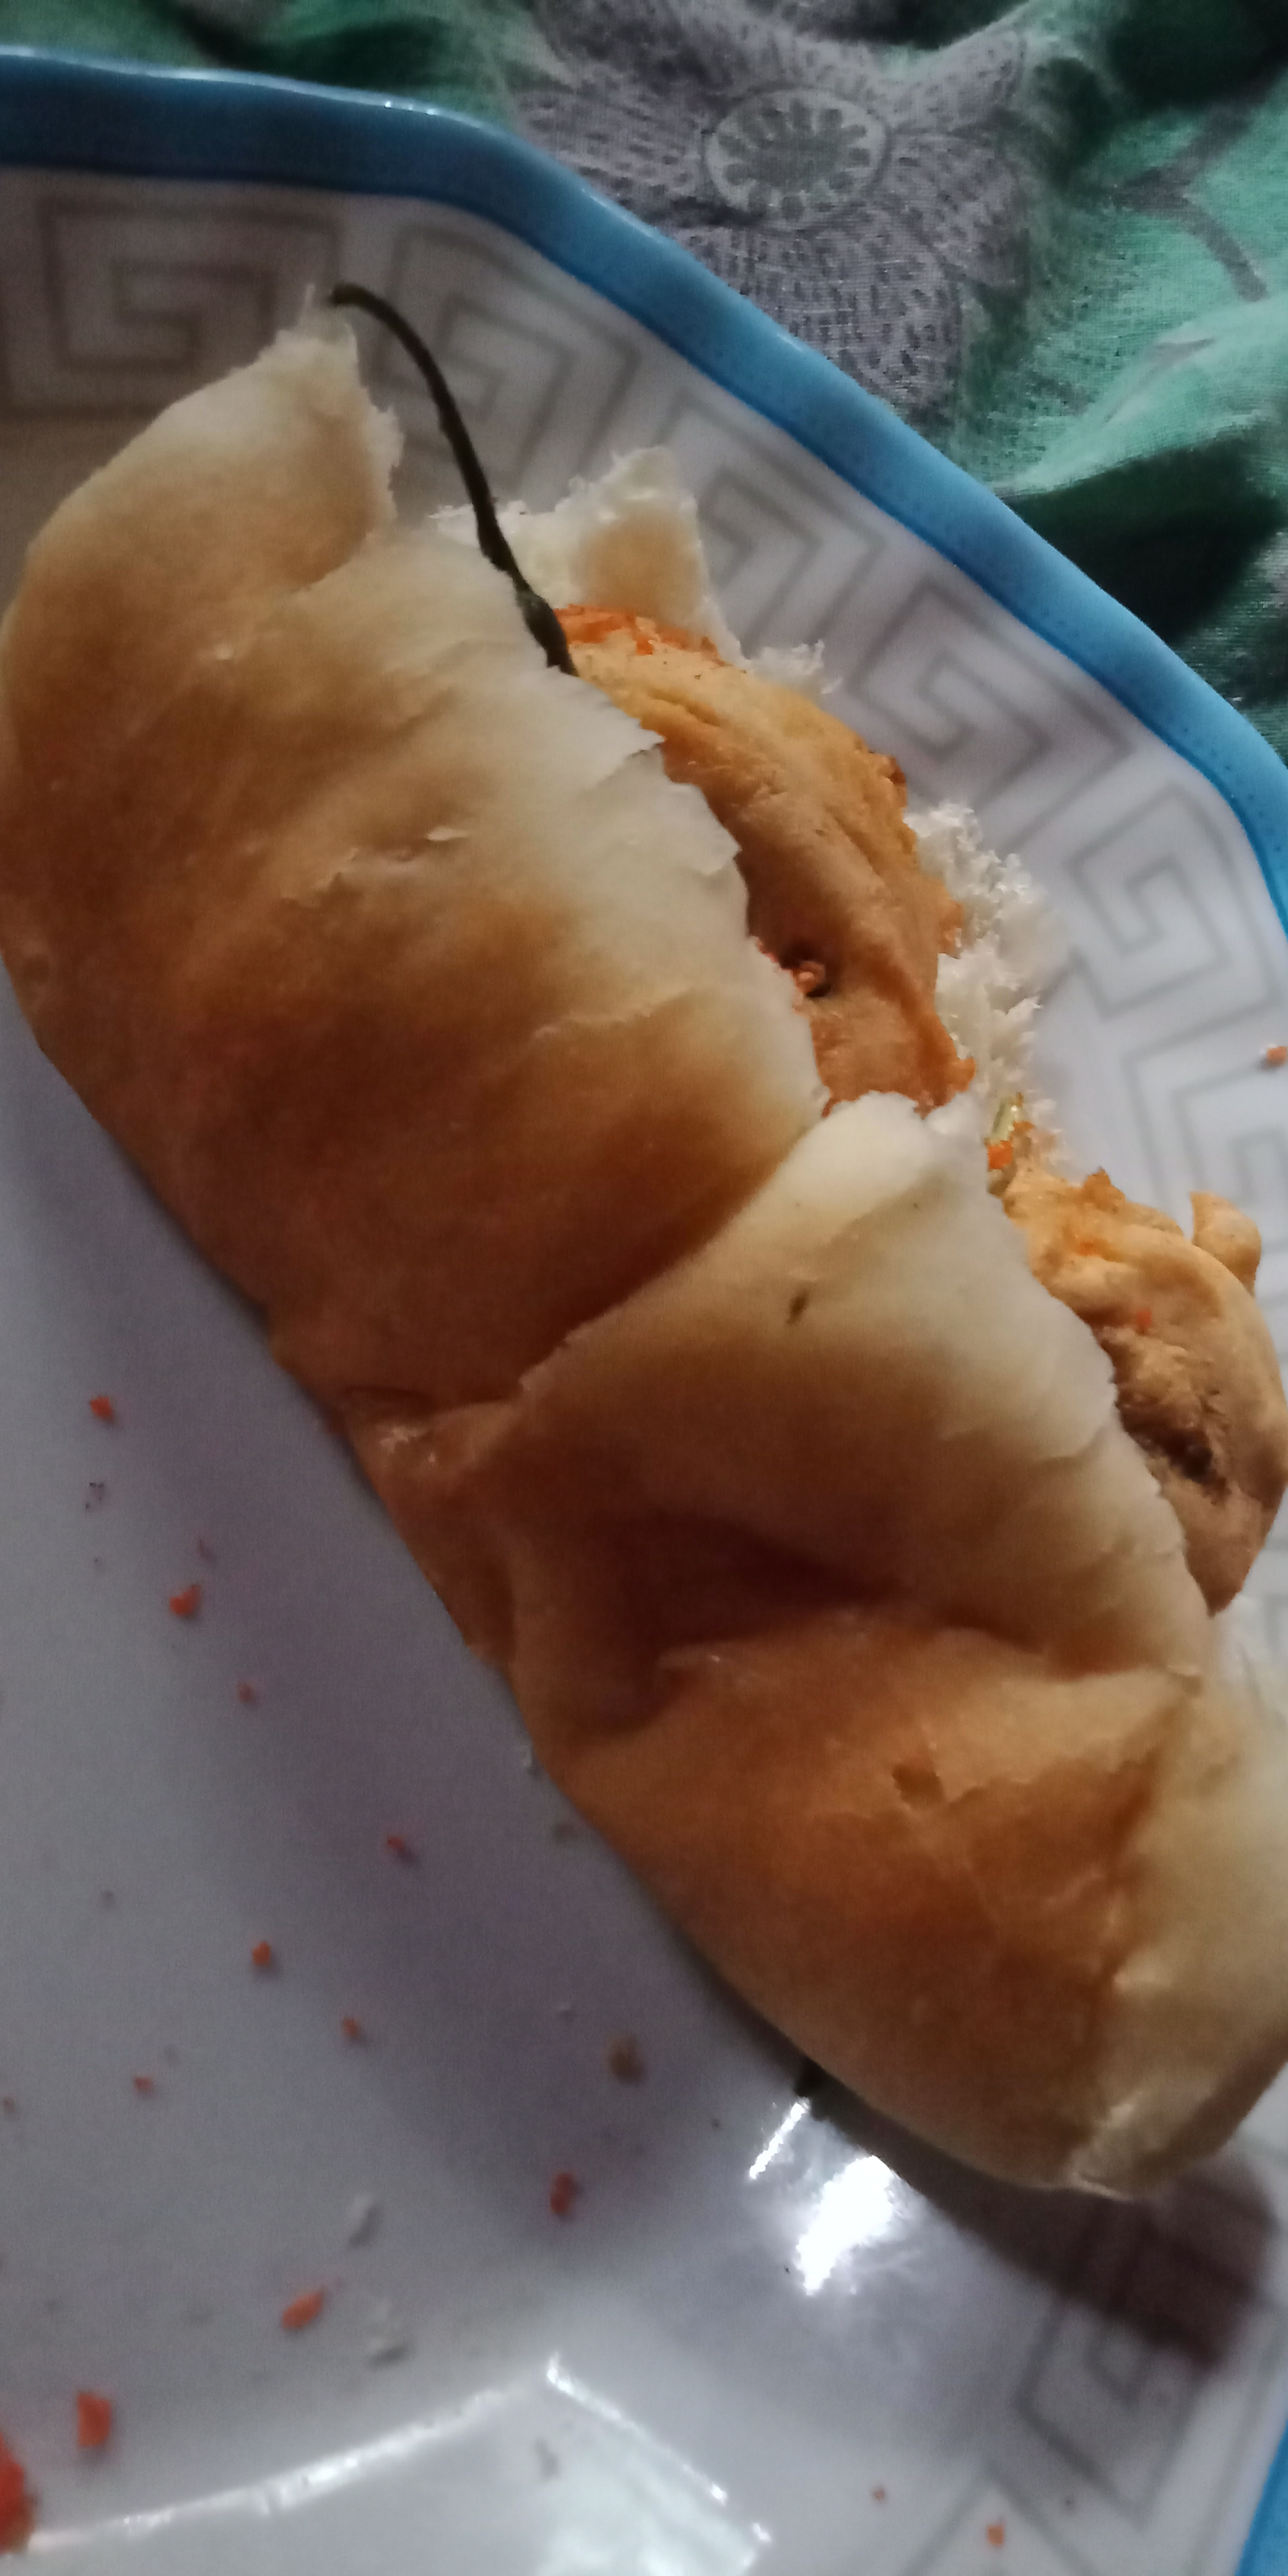food: (3, 268, 1288, 2221)
